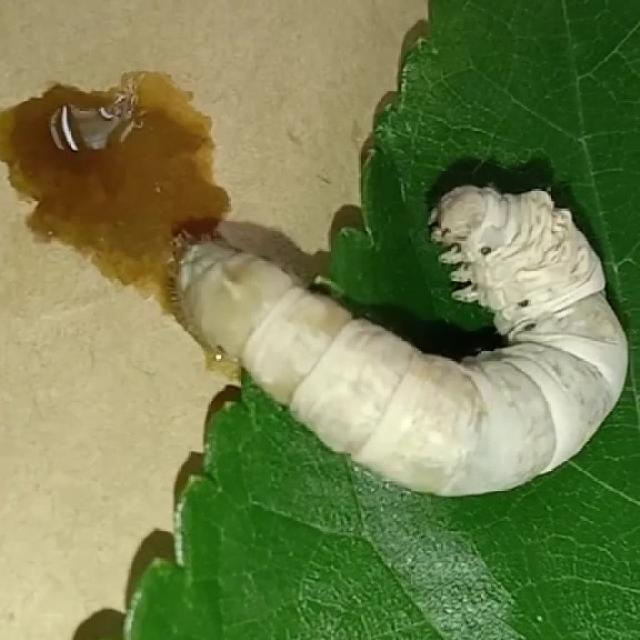Grasserie: (96, 109, 640, 566)
